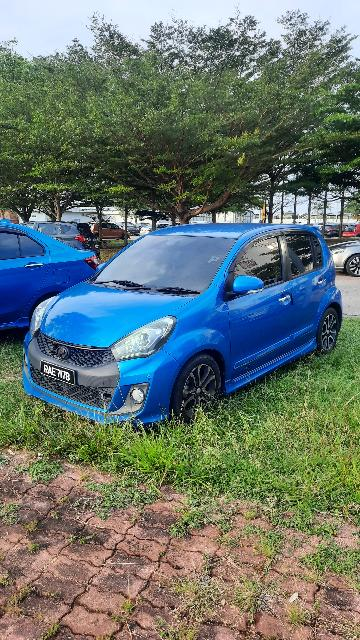License_Plate: (41, 363, 81, 391)
car: (26, 218, 349, 429), (2, 220, 115, 357)
